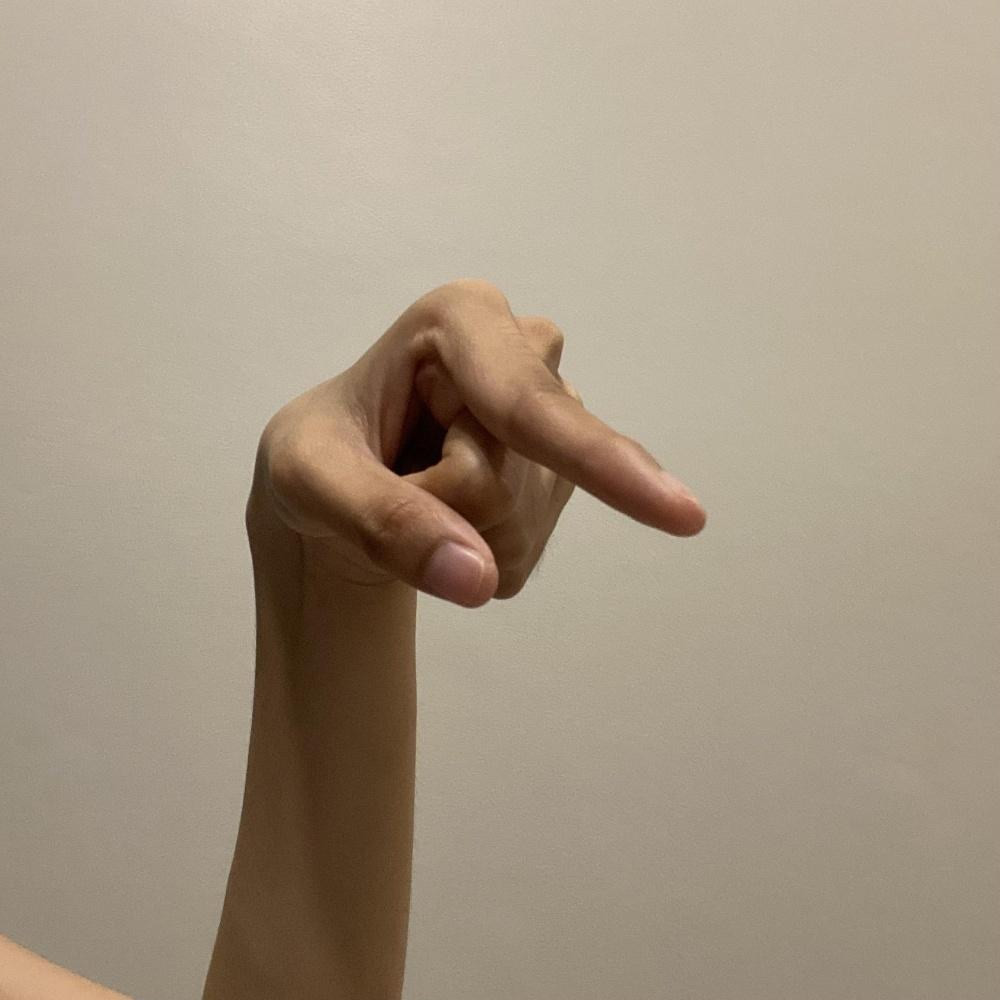z: (249, 272, 716, 609)
